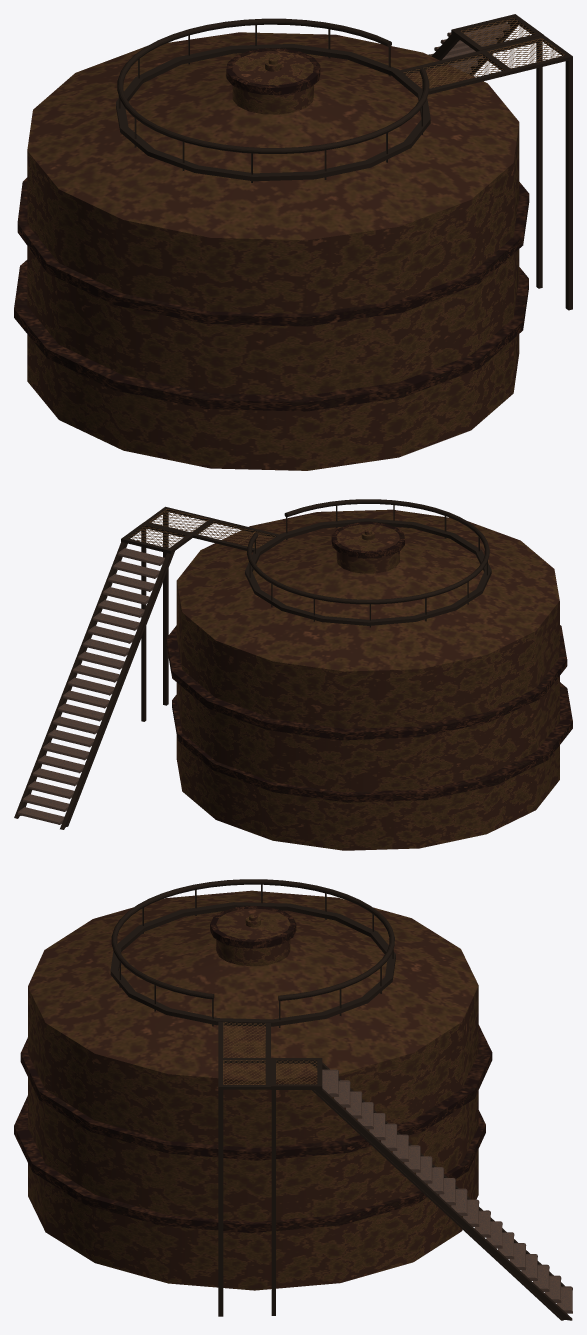
Rendered from EP_FatOil_001.fbx.
3 renders of one model, top to bottom at view 1: azimuth 30°, elevation 25°; view 2: azimuth 150°, elevation 25°; view 3: azimuth 270°, elevation 25°, orthographic. The views are drawn at different scales.
Parts seen in each view (by area): view 1: Cylinder.003; view 2: Cylinder.003; view 3: Cylinder.003.
Part boxes in pixels (bbox=[...]): Cylinder.003: bbox=[14, 14, 572, 470]; Cylinder.003: bbox=[14, 499, 572, 850]; Cylinder.003: bbox=[14, 879, 572, 1320].
Size of the model in its own units: 3458 by 2009 by 3623.
Materials: 5 (3 with a texture image).
